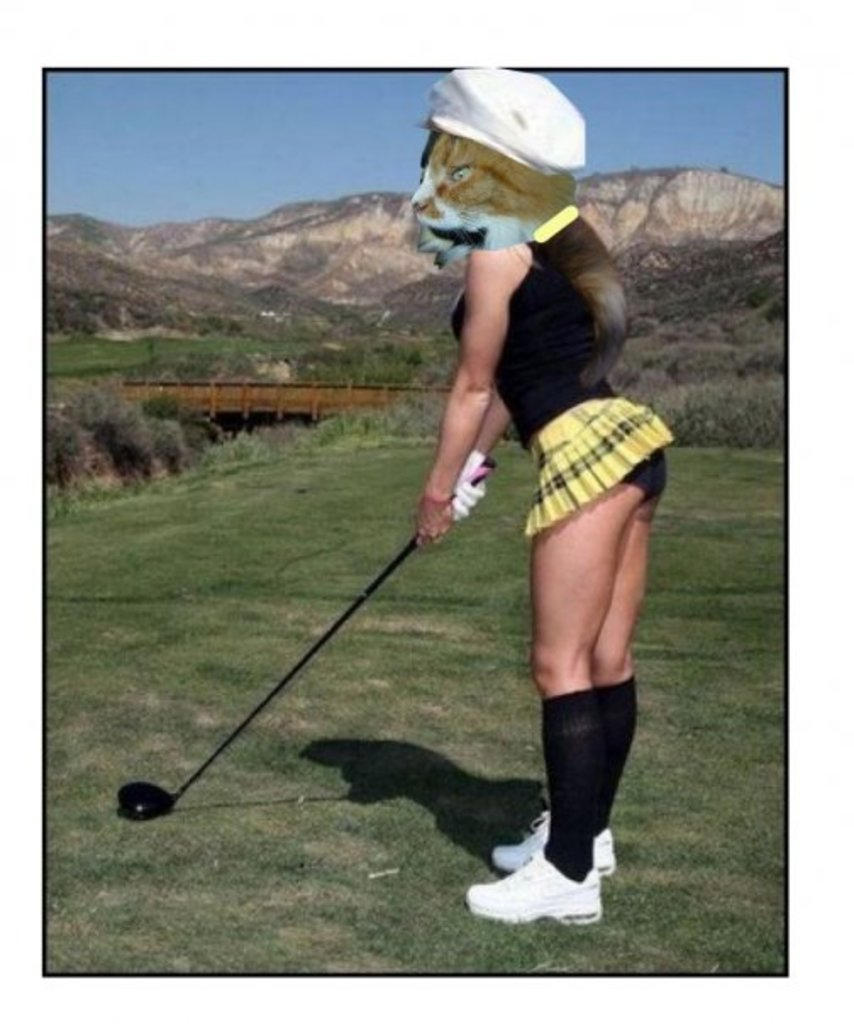Person: (413, 69, 675, 929)
